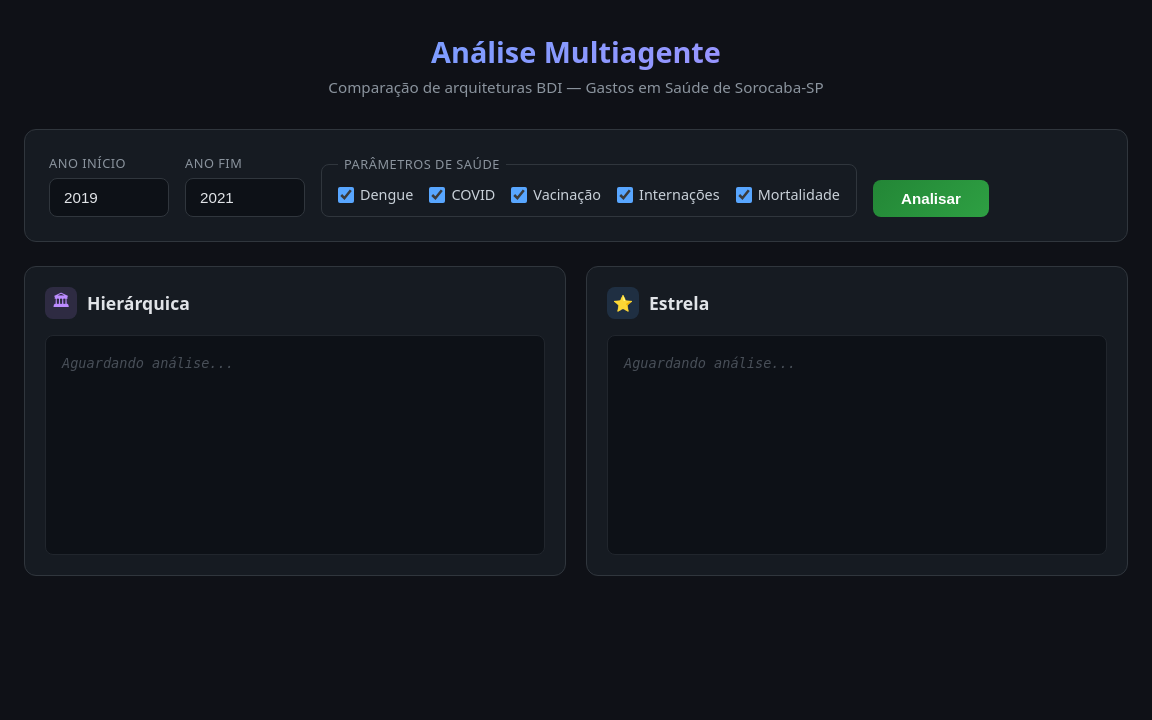
Test: App › shows API error on network failure
Click the button with test id "submit-button" at {"x": 931, "y": 198}, box [873,180,989,217]
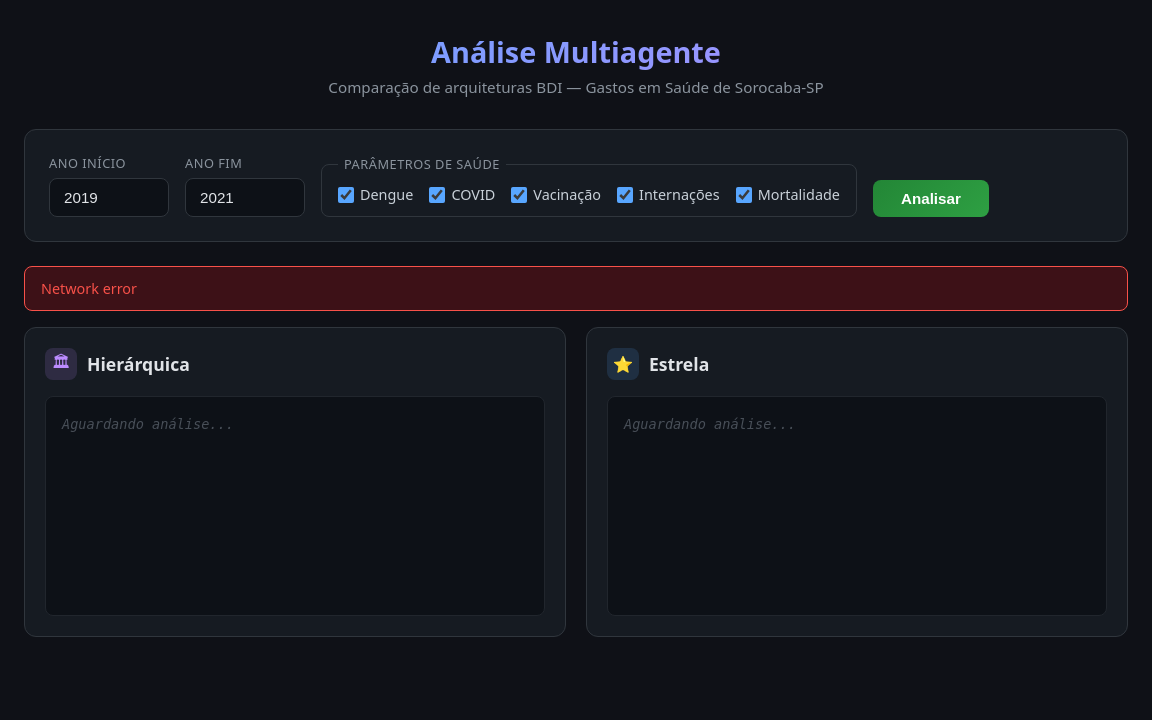
Now the message "Network error" is shown, box [24,266,1128,311]
Now the message with test id "api-error" reads "Network error", box [41,279,137,298]
